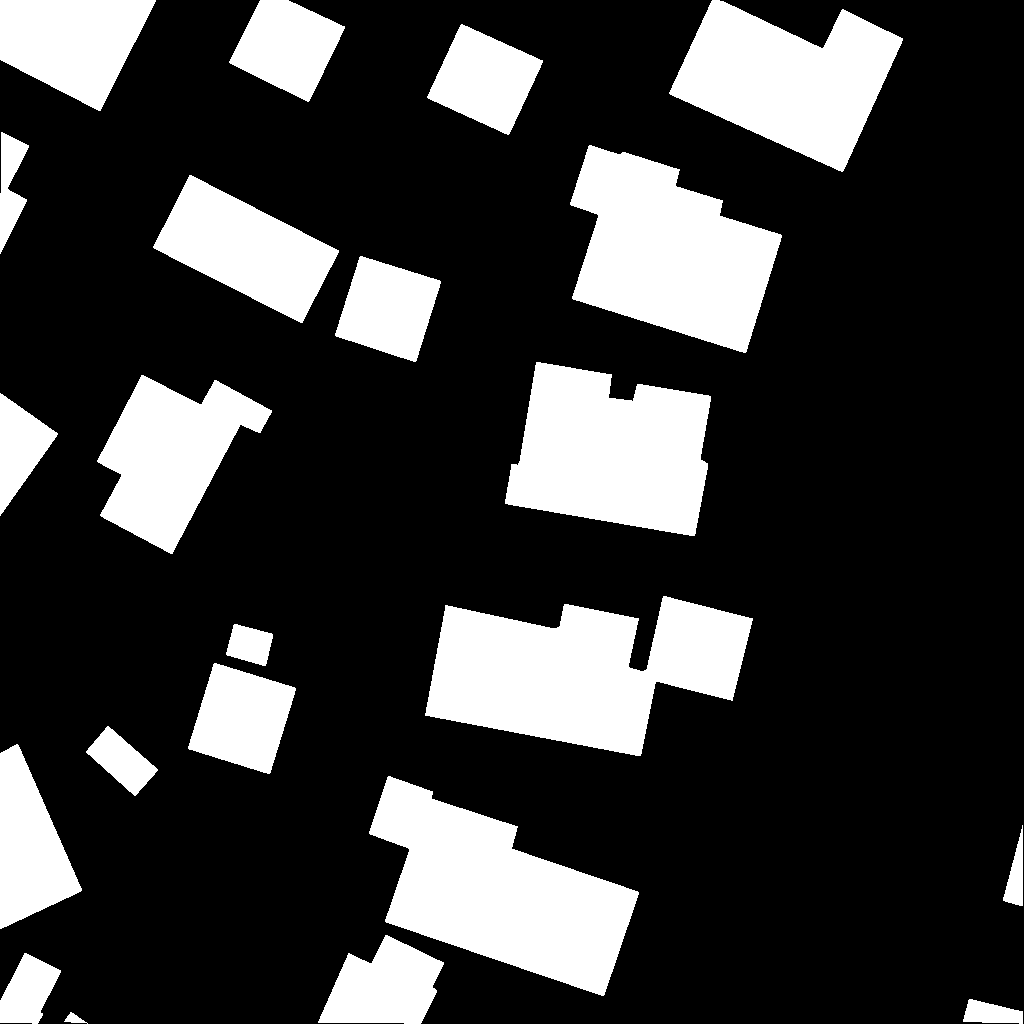building: (369, 776, 640, 997), (425, 596, 754, 757), (570, 145, 783, 354), (669, 0, 904, 173), (505, 362, 712, 537), (97, 375, 273, 555), (153, 175, 340, 324), (0, 0, 157, 112), (0, 744, 83, 930), (427, 24, 544, 136), (188, 663, 297, 775), (229, 0, 346, 103), (335, 256, 442, 363), (318, 935, 445, 1024), (0, 393, 59, 517), (86, 726, 159, 797), (0, 953, 62, 1024), (0, 132, 30, 255), (226, 624, 274, 667), (1003, 824, 1024, 907), (963, 999, 1024, 1024), (64, 1012, 89, 1024)
